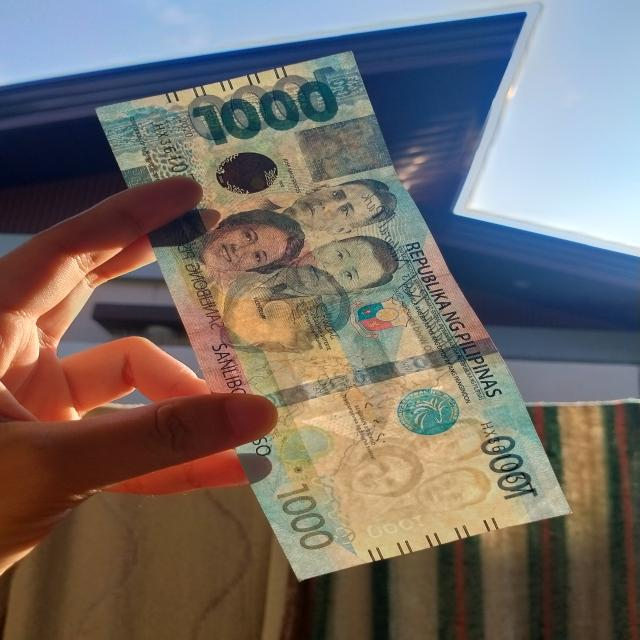concealed_value: (291, 112, 393, 184)
optically_variable_device: (198, 138, 296, 209)
security_thread: (259, 336, 499, 411)
see_through_mark: (304, 469, 362, 551)
serial_number: (479, 418, 540, 496), (150, 119, 190, 173)
value: (183, 75, 348, 151)
value_watermark: (361, 510, 434, 545)
watermark: (321, 408, 520, 534)
